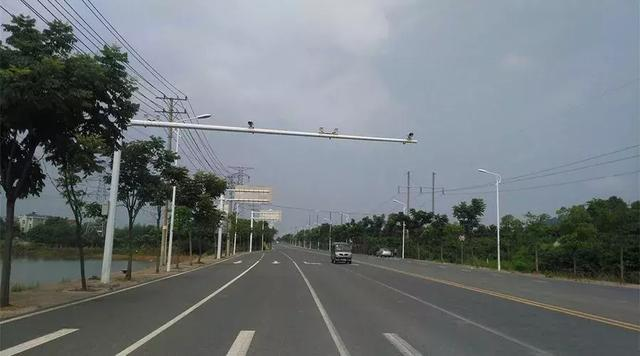camera: (247, 120, 256, 129), (408, 131, 414, 142)
car: (332, 242, 352, 264)
